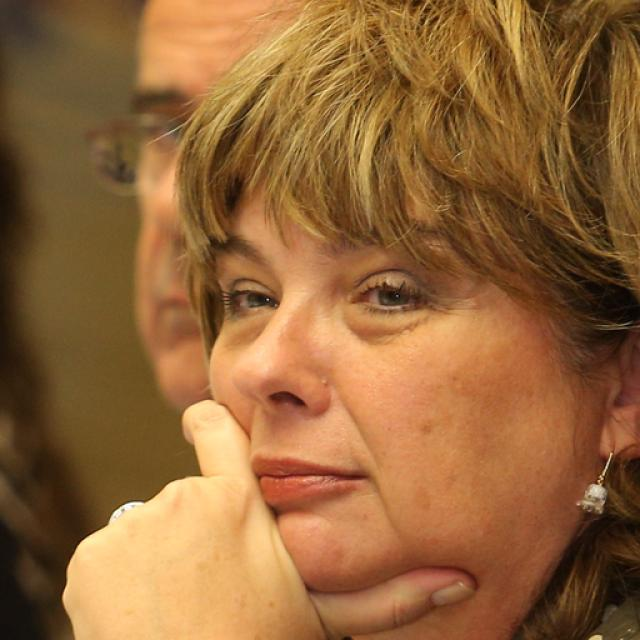sad: (202, 83, 576, 592)
